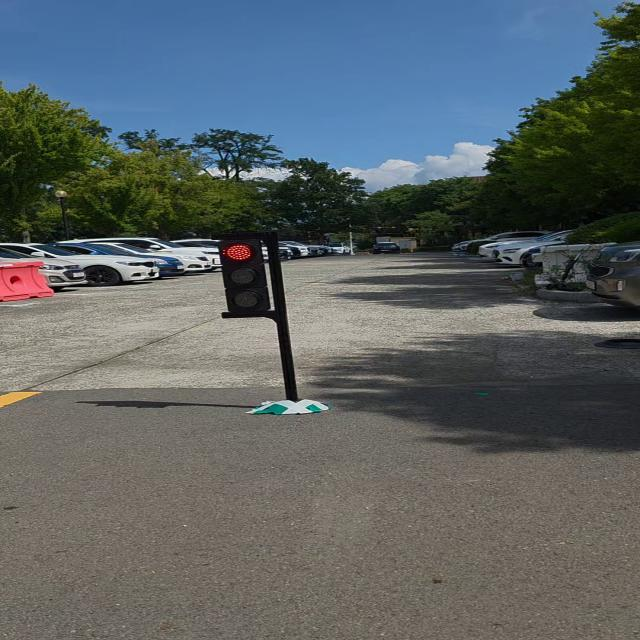red: (215, 235, 275, 319)
